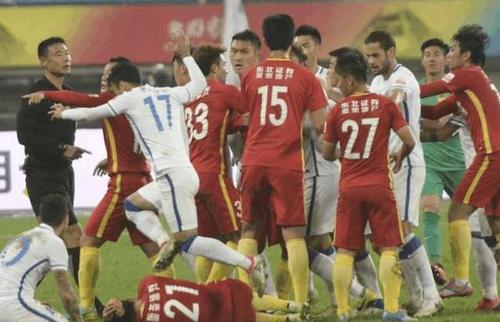10+: (1, 12, 500, 322)
down: (100, 271, 315, 322)
